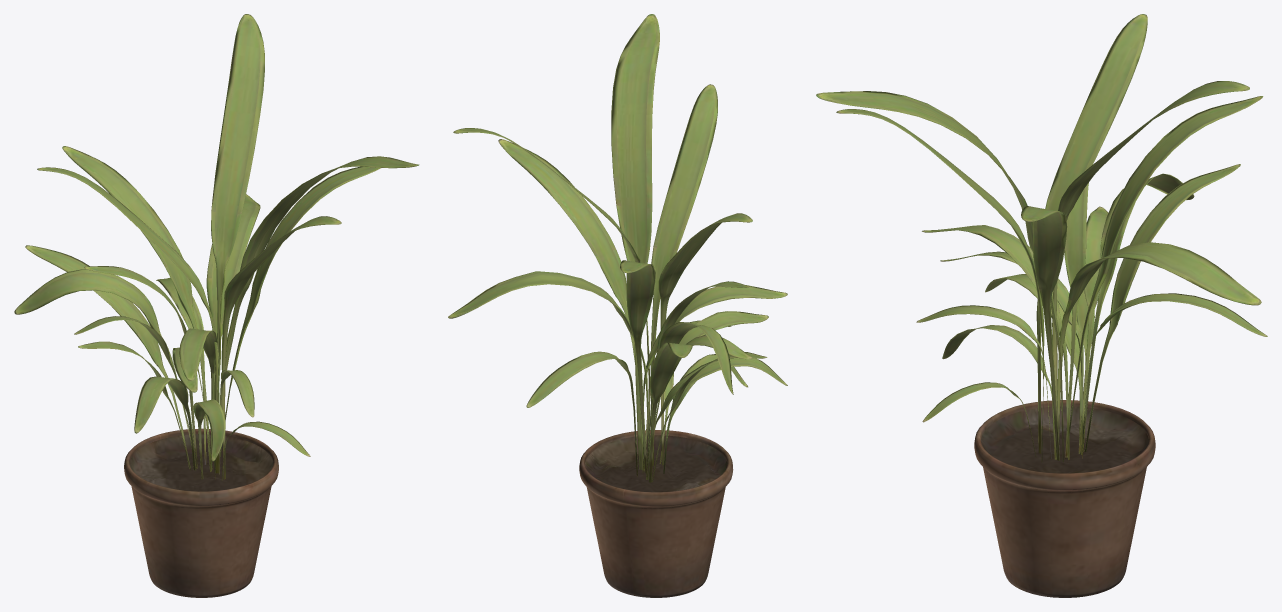
The model's file is veg_palm_m.glb.
3 views of the same model, side by side, from view 1: azimuth 30°, elevation 25°; view 2: azimuth 150°, elevation 25°; view 3: azimuth 270°, elevation 25° (orthographic). The views are drawn at different scales.
Parts seen in each view (by area): view 1: palm; view 2: palm; view 3: palm.
Part boxes in pixels (x1,y1,x2,y2): palm: [14, 14, 419, 597]; palm: [448, 14, 787, 597]; palm: [816, 14, 1267, 597].
Size of the model in its own units: 1.28 by 1.9 by 1.4.
1 material, 1 textured.
